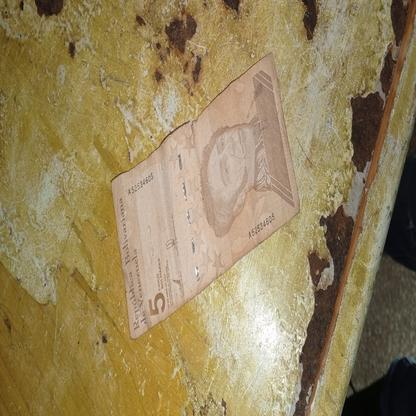five-front-vef: (110, 51, 299, 339)
